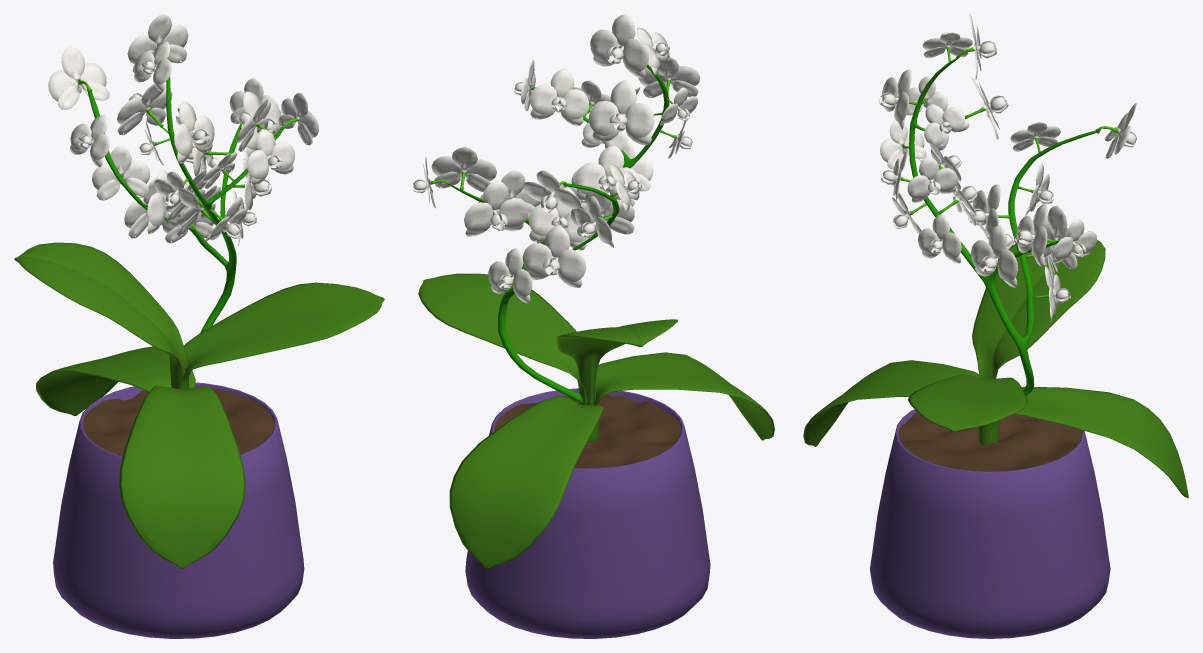
File: orchids.glb
The picture shows the model from 3 angles, left to right: view 1: azimuth 30°, elevation 25°; view 2: azimuth 150°, elevation 25°; view 3: azimuth 270°, elevation 25°; orthographic projection. The views are drawn at different scales.
Visible parts, largest first — view 1: Pot_Cylinder, Leaf.001_Plane.001, Leaf.002_Plane.002, Leaf.003_Plane.003, Leaf_Plane, Pot.001_Cylinder.003, stalk_Cylinder.002, Flower.024_Plane.029, Flower.022_Plane.027, Flower.012_Plane.017, Flower.003_Plane.008, Flower.008_Plane.013 (+16 smaller); view 2: Pot_Cylinder, Leaf_Plane, Leaf.002_Plane.002, Pot.001_Cylinder.003, Leaf.001_Plane.001, Leaf.003_Plane.003, Flower.011_Plane.016, stalk_Cylinder.002, Flower.020_Plane.025, Flower.016_Plane.021, Flower.012_Plane.017, Flower.006_Plane.011 (+15 smaller); view 3: Pot_Cylinder, Leaf_Plane, Pot.001_Cylinder.003, Leaf.003_Plane.003, Leaf.002_Plane.002, Leaf.001_Plane.001, stalk_Cylinder.002, Flower.015_Plane.020, Flower.005_Plane.010, Flower_Plane.005, Flower.018_Plane.023, Flower.009_Plane.014 (+15 smaller).
Part boxes in pixels (x1,y1,x2,y2): Pot_Cylinder: [53, 382, 304, 638]; Leaf.001_Plane.001: [119, 386, 245, 568]; Leaf.002_Plane.002: [178, 282, 384, 389]; Leaf.003_Plane.003: [14, 242, 186, 388]; Leaf_Plane: [36, 346, 195, 416]; Pot.001_Cylinder.003: [83, 387, 274, 456]; stalk_Cylinder.002: [88, 77, 282, 332]; Flower.024_Plane.029: [48, 46, 109, 109]; Flower.022_Plane.027: [92, 146, 150, 200]; Flower.012_Plane.017: [127, 14, 188, 73]; Flower.003_Plane.008: [247, 129, 294, 185]; Flower.008_Plane.013: [173, 101, 214, 163]; Pot_Cylinder: [465, 388, 710, 638]; Leaf_Plane: [449, 396, 603, 569]; Leaf.002_Plane.002: [418, 273, 596, 405]; Pot.001_Cylinder.003: [494, 394, 681, 468]; Leaf.001_Plane.001: [594, 352, 774, 440]; Leaf.003_Plane.003: [557, 319, 677, 405]; Flower.011_Plane.016: [588, 80, 654, 145]; stalk_Cylinder.002: [449, 64, 669, 402]; Flower.020_Plane.025: [522, 225, 586, 287]; Flower.016_Plane.021: [464, 179, 528, 236]; Flower.012_Plane.017: [590, 14, 648, 78]; Flower.006_Plane.011: [530, 68, 589, 125]; Pot_Cylinder: [870, 409, 1110, 638]; Leaf_Plane: [981, 386, 1188, 498]; Pot.001_Cylinder.003: [898, 412, 1081, 471]; Leaf.003_Plane.003: [972, 240, 1105, 378]; Leaf.002_Plane.002: [908, 374, 1027, 431]; Leaf.001_Plane.001: [803, 360, 985, 446]; stalk_Cylinder.002: [909, 58, 1096, 395]; Flower.015_Plane.020: [971, 225, 1018, 287]; Flower.005_Plane.010: [907, 156, 957, 203]; Flower_Plane.005: [918, 214, 961, 263]; Flower.018_Plane.023: [1014, 203, 1055, 266]; Flower.009_Plane.014: [924, 105, 969, 150].
Size of the model in its own units: 0.311 by 0.5748 by 0.3525.
